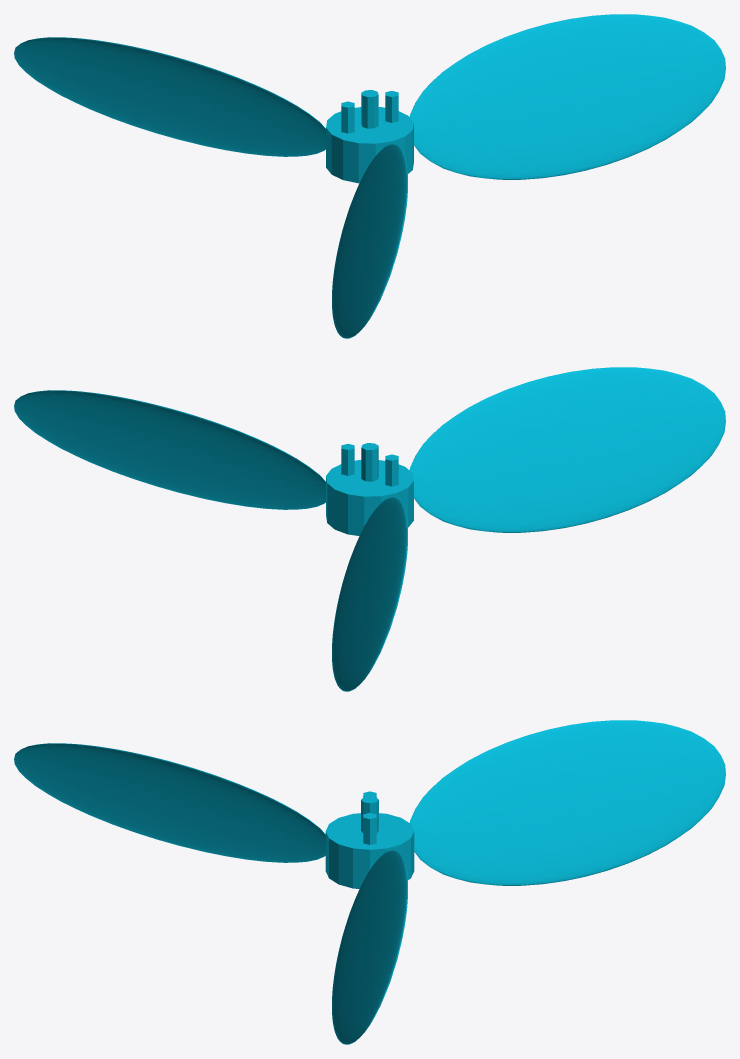
File: prop_mat_plastic_0.glb
3 views of the same model, one above another, from view 1: azimuth 30°, elevation 25°; view 2: azimuth 150°, elevation 25°; view 3: azimuth 270°, elevation 25° (orthographic).
Visible parts, largest first — view 1: geometry_0; view 2: geometry_0; view 3: geometry_0.
Boxes of the visible parts, box(x1,y1,x2,y2) form: geometry_0: box(14, 14, 725, 338); geometry_0: box(14, 367, 725, 691); geometry_0: box(14, 720, 725, 1044).
Bounding box in the file's own units: 0.049 × 0.0104 × 0.0562.
